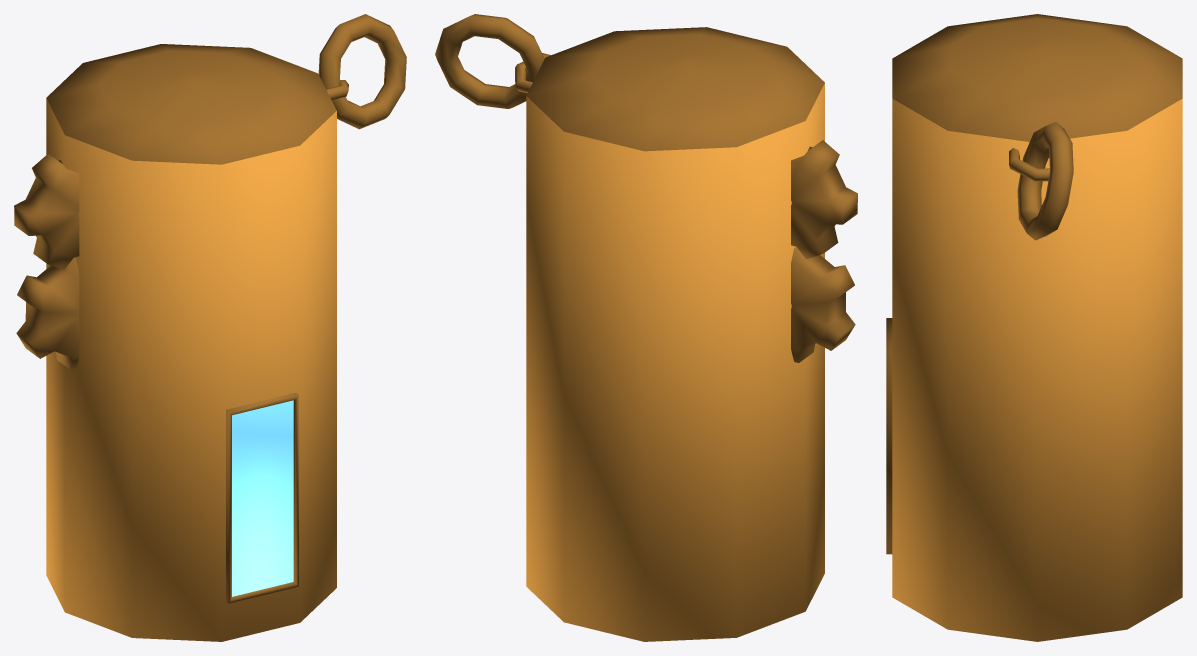
The model's file is Grenade.fbx.
The picture shows the model from 3 angles, left to right: view 1: azimuth 30°, elevation 25°; view 2: azimuth 150°, elevation 25°; view 3: azimuth 270°, elevation 25°; orthographic projection. The views are drawn at different scales.
Visible parts, largest first — view 1: Cylinder; view 2: Cylinder; view 3: Cylinder.
Boxes of the visible parts, bbox=[...] form: Cylinder: bbox=[14, 14, 406, 641]; Cylinder: bbox=[435, 14, 857, 641]; Cylinder: bbox=[886, 14, 1182, 641].
Size of the model in its own units: 31.11 by 40.72 by 19.41.
